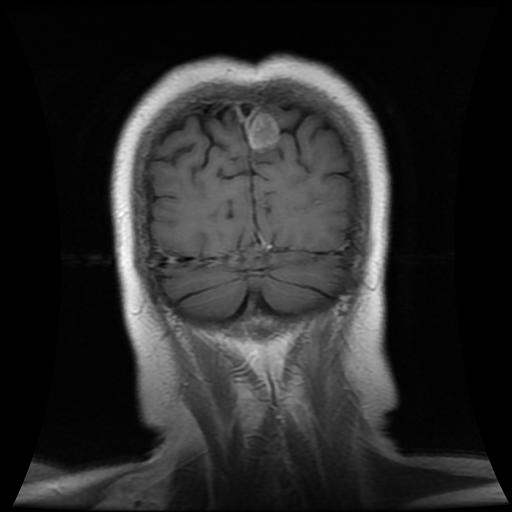Menigiomia_tumour: (246, 112, 279, 150)
